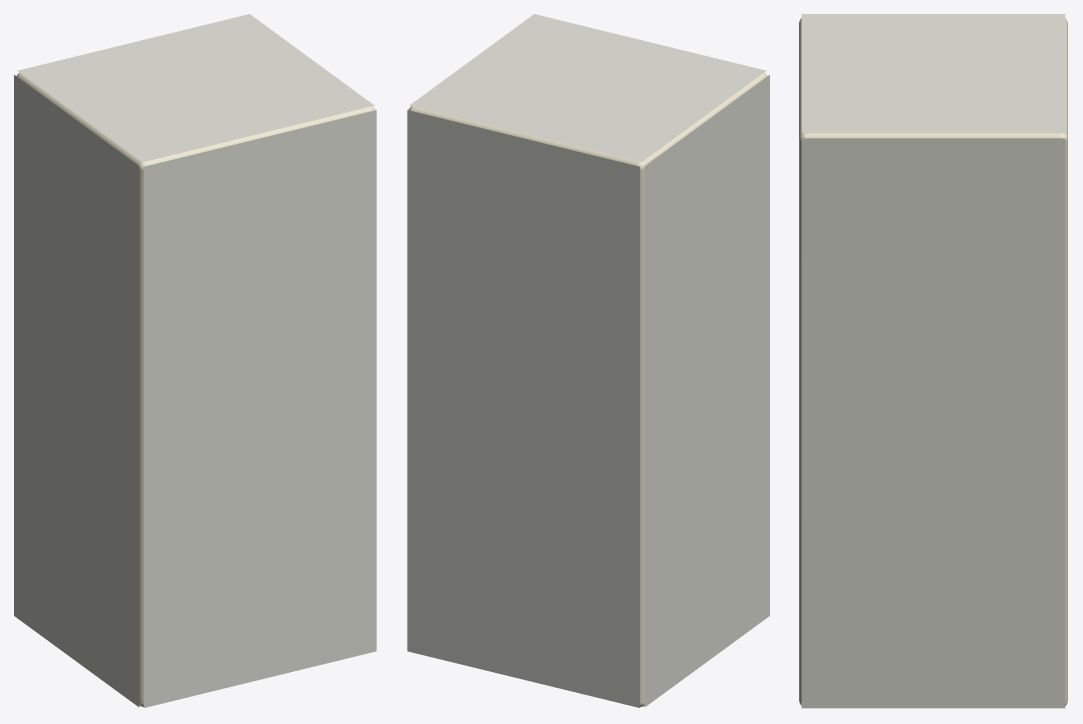
File: milk_box.glb
3 renders of one model, left to right at view 1: azimuth 30°, elevation 25°; view 2: azimuth 150°, elevation 25°; view 3: azimuth 270°, elevation 25°, orthographic. The views are drawn at different scales.
Visible parts, largest first — view 1: LabelFront, LabelLeft, LabelTop, Carton; view 2: LabelBack, LabelLeft, LabelTop, Carton; view 3: LabelRight, LabelTop, Carton.
Boxes of the visible parts, <box> form: LabelFront: <box>144,110,376,707</box>; LabelLeft: <box>14,75,139,707</box>; LabelTop: <box>17,14,374,162</box>; Carton: <box>16,72,375,707</box>; LabelBack: <box>407,110,639,707</box>; LabelLeft: <box>644,75,769,707</box>; LabelTop: <box>409,14,766,162</box>; Carton: <box>408,72,767,707</box>; LabelRight: <box>801,138,1065,708</box>; LabelTop: <box>801,14,1065,133</box>; Carton: <box>799,18,1067,705</box>.
Size of the model in its own units: 0.754 by 1.65 by 0.704.
